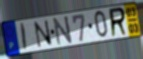0: (94, 9, 110, 40)
7: (71, 13, 86, 43)
I: (20, 22, 28, 52)
N: (52, 15, 74, 47), (33, 19, 54, 49)
R: (108, 6, 128, 40)
